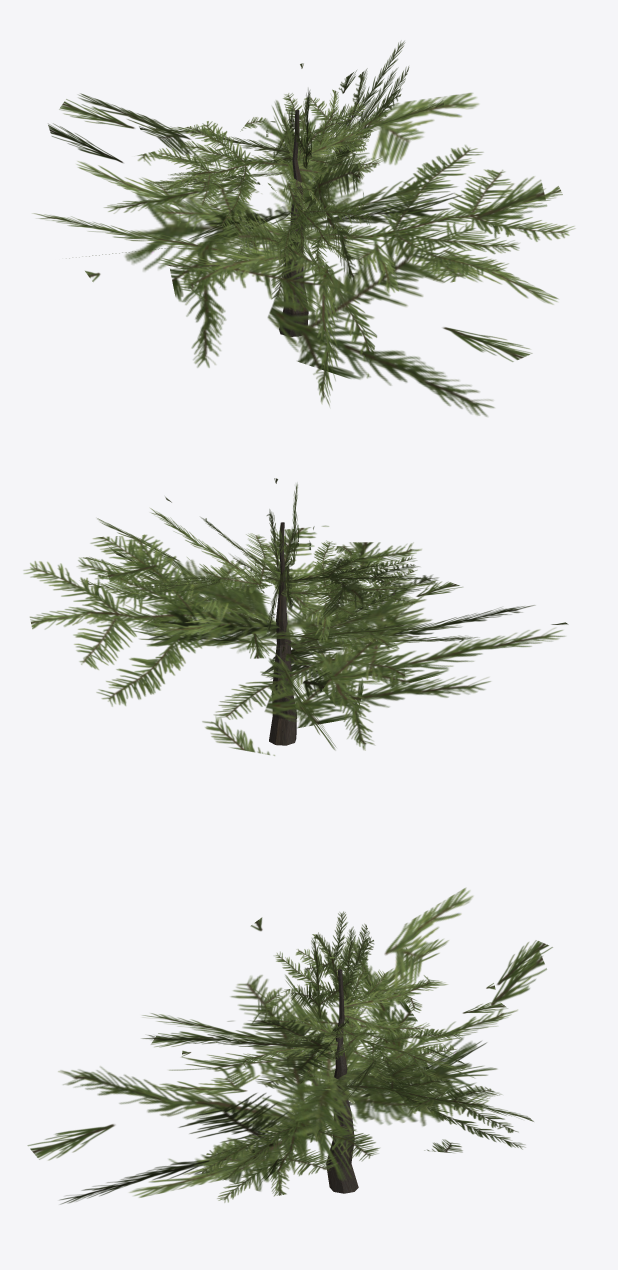
The model's file is prop_sapling_pinesml_b.glb.
3 renders of one model, top to bottom at view 1: azimuth 30°, elevation 25°; view 2: azimuth 150°, elevation 25°; view 3: azimuth 270°, elevation 25°, orthographic. The views are drawn at different scales.
Parts seen in each view (by area): view 1: conifer_pine_154; view 2: conifer_pine_154; view 3: conifer_pine_154.
Boxes of the visible parts, x1,y1,x2,y2 form: conifer_pine_154: (32,41,575,416); conifer_pine_154: (23,478,568,755); conifer_pine_154: (27,888,552,1204).
Size of the model in its own units: 5.43 by 2.7 by 5.38.
2 materials, 2 textured.
